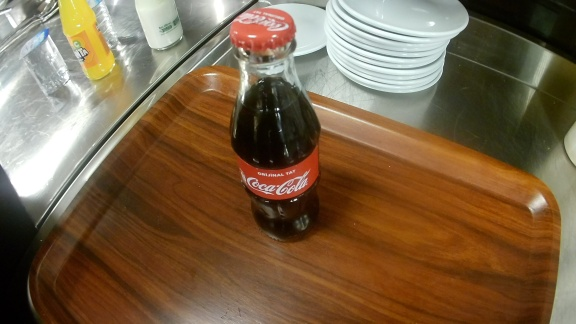camkola: (223, 5, 333, 248)
